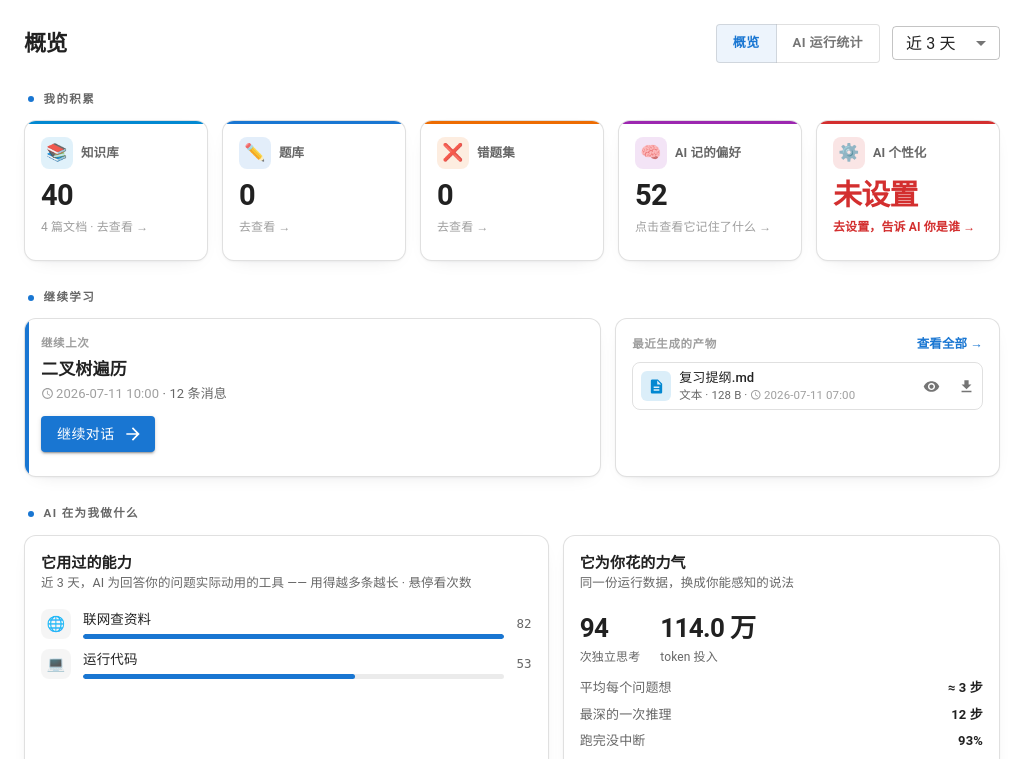
it: HomeView › 记忆抽屉可删除单条
This screenshot has width=1024, height=759.
Expected: the text "二叉树遍历" is shown, [41,359,127,379]
Click the text "AI 记的偏好" at (708, 153), box [675,144,741,162]
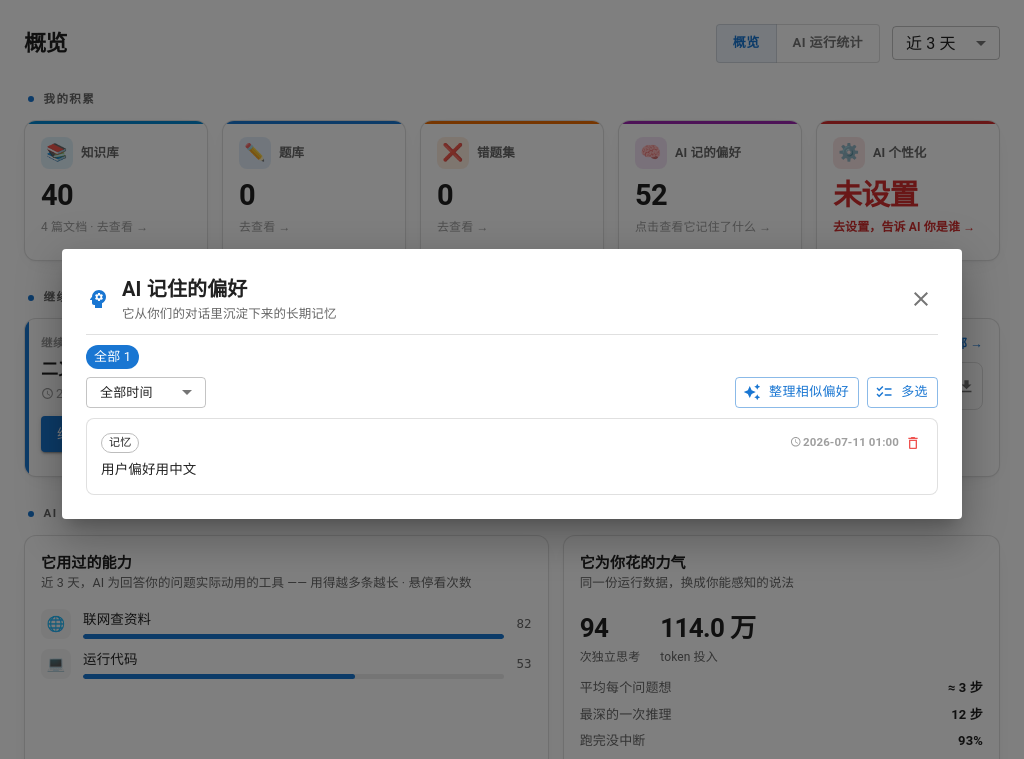
Now the text "用户偏好用中文" is shown, box [101,461,196,477]
Click the button named "删除这条记忆" at (913, 443), box [903,433,923,453]
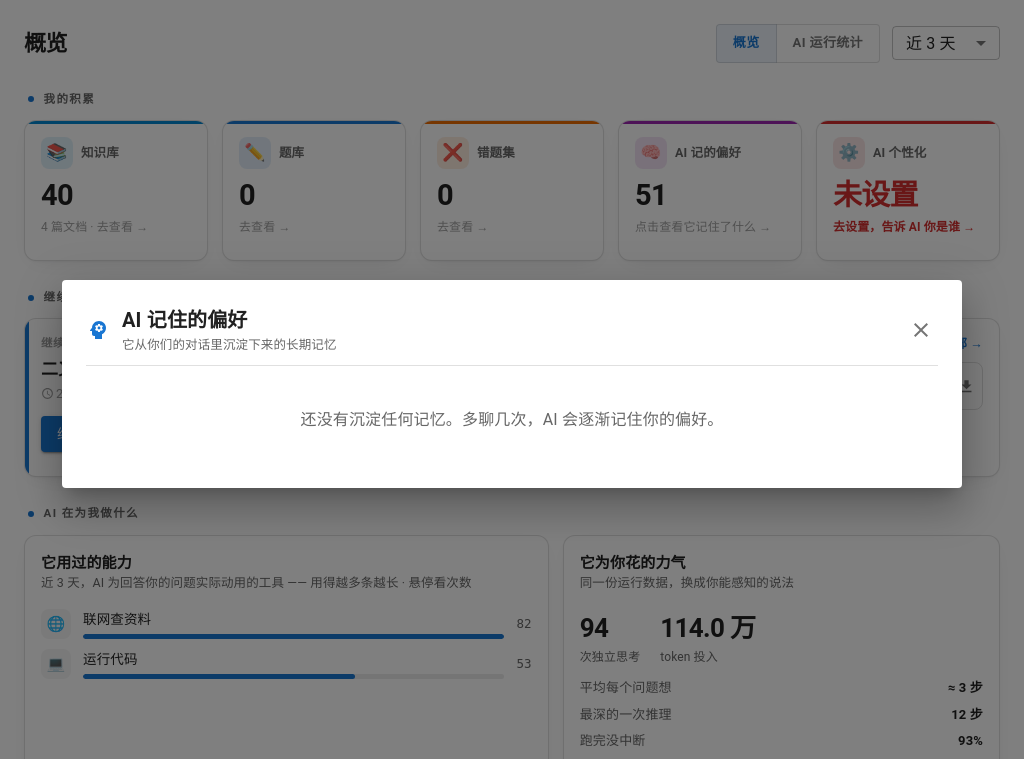
Now the text "用户偏好用中文" is gone
